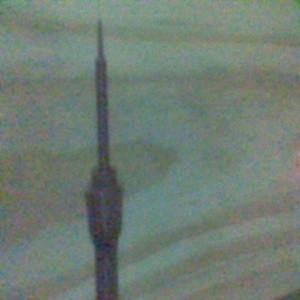solder: (84, 18, 124, 300)
